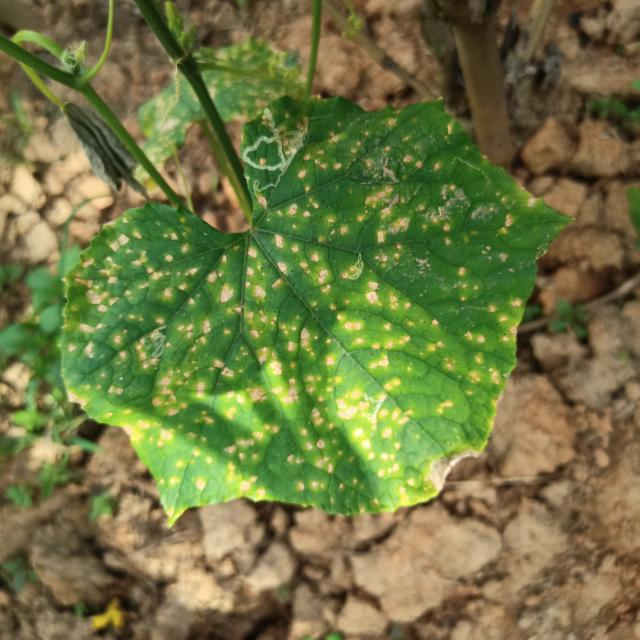disease_cucumber: (85, 145, 503, 500)
